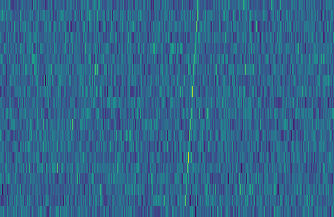signal: (180, 0, 203, 217)
